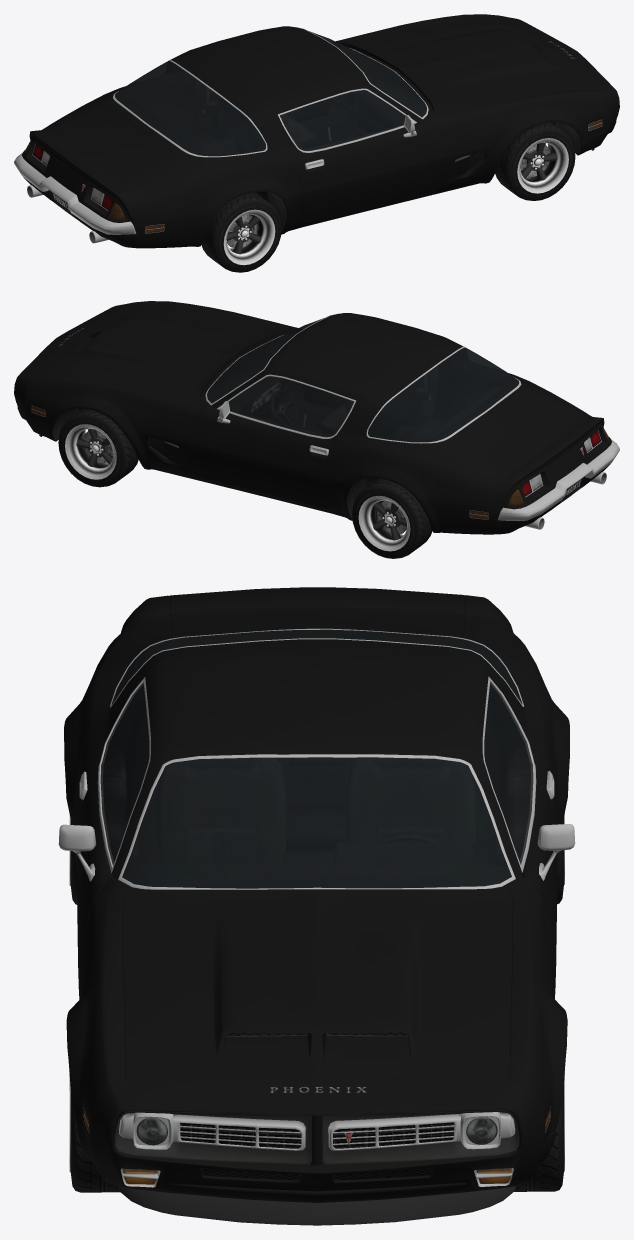
Rendered from phoenix.glb.
3 renders of one model, top to bottom at view 1: azimuth 30°, elevation 25°; view 2: azimuth 150°, elevation 25°; view 3: azimuth 270°, elevation 25°, orthographic. The views are drawn at different scales.
Parts seen in each view (by area): view 1: Phoenix445_Body_Phoenix445_Bodymat_0, Phoenix445_Interior_UCB_Interiors_2_0, Phoenix445_Hood_Phoenix445_Bodymat_0, Phoenix445_Glass_rear_UCB_Lights_and_Glass_Transperent_0, Phoenix445_Trunkdoor_Phoenix445_Bodymat_0, Phoenix445_Glass_Passenger_UCB_Lights_and_Glass_Transperent_, Phoenix445_WheelStock_RR_RB1c_Tire_1k_0, Phoenix445_WheelStock_FR_RB1c_Tire_1k_0, Phoenix445_Bottom_UCB_BOTTOM_0, Phoenix445_Bumper_rear_UCB_BOTTOM_0, Phoenix445_Windshield_UCB_Lights_and_Glass_Transperent_0, Phoenix445_Taillights_Glass_UCB_Lights_and_Glass_Transperent; view 2: Phoenix445_Body_Phoenix445_Bodymat_0, Phoenix445_Hood_Phoenix445_Bodymat_0, Phoenix445_Interior_UCB_Interiors_2_0, Phoenix445_Glass_rear_UCB_Lights_and_Glass_Transperent_0, Phoenix445_Trunkdoor_Phoenix445_Bodymat_0, Phoenix445_Glass_Driver_UCB_Lights_and_Glass_Transperent_0, Phoenix445_WheelStock_RL_RB1c_Tire_1k_0, Phoenix445_WheelStock_FL_RB1c_Tire_1k_0, Phoenix445_Bottom_UCB_BOTTOM_0, Phoenix445_Bumper_rear_UCB_BOTTOM_0, Phoenix445_Windshield_UCB_Lights_and_Glass_Transperent_0, Phoenix445_Taillights_Glass_UCB_Lights_and_Glass_Transperent (+1 smaller); view 3: Phoenix445_Body_Phoenix445_Bodymat_0, Phoenix445_Hood_Phoenix445_Bodymat_0, Phoenix445_Interior_UCB_Interiors_2_0, Phoenix445_Windshield_UCB_Lights_and_Glass_Transperent_0, Phoenix445_Bottom_UCB_BOTTOM_0, Phoenix445_Trunkdoor_Phoenix445_Bodymat_0, Phoenix445_Glass_Driver_UCB_Lights_and_Glass_Transperent_0, Phoenix445_Glass_Passenger_UCB_Lights_and_Glass_Transperent_, Phoenix445_Glass_rear_UCB_Lights_and_Glass_Transperent_0, Phoenix445_WheelStock_FR_RB1c_Tire_1k_0, Phoenix445_WheelStock_FL_RB1c_Tire_1k_0, Phoenix445_Headlights_glass_UCB_Lights_and_Glass_Transperent (+2 smaller).
Boxes of the visible parts, <box> form: Phoenix445_Body_Phoenix445_Bodymat_0: <box>22,14,619,248</box>; Phoenix445_Interior_UCB_Interiors_2_0: <box>115,47,426,155</box>; Phoenix445_Hood_Phoenix445_Bodymat_0: <box>339,18,598,112</box>; Phoenix445_Glass_rear_UCB_Lights_and_Glass_Transperent_0: <box>115,61,265,156</box>; Phoenix445_Trunkdoor_Phoenix445_Bodymat_0: <box>35,104,178,194</box>; Phoenix445_Glass_Passenger_UCB_Lights_and_Glass_Transperent_: <box>280,90,405,151</box>; Phoenix445_WheelStock_RR_RB1c_Tire_1k_0: <box>201,192,281,272</box>; Phoenix445_WheelStock_FR_RB1c_Tire_1k_0: <box>495,122,575,200</box>; Phoenix445_Bottom_UCB_BOTTOM_0: <box>27,27,602,243</box>; Phoenix445_Bumper_rear_UCB_BOTTOM_0: <box>14,152,136,234</box>; Phoenix445_Windshield_UCB_Lights_and_Glass_Transperent_0: <box>309,31,426,117</box>; Phoenix445_Taillights_Glass_UCB_Lights_and_Glass_Transperent: <box>24,141,164,233</box>; Phoenix445_Body_Phoenix445_Bodymat_0: <box>14,301,611,534</box>; Phoenix445_Hood_Phoenix445_Bodymat_0: <box>35,305,294,398</box>; Phoenix445_Interior_UCB_Interiors_2_0: <box>207,334,518,441</box>; Phoenix445_Glass_rear_UCB_Lights_and_Glass_Transperent_0: <box>368,347,518,442</box>; Phoenix445_Trunkdoor_Phoenix445_Bodymat_0: <box>456,391,599,480</box>; Phoenix445_Glass_Driver_UCB_Lights_and_Glass_Transperent_0: <box>228,376,354,437</box>; Phoenix445_WheelStock_RL_RB1c_Tire_1k_0: <box>352,478,432,558</box>; Phoenix445_WheelStock_FL_RB1c_Tire_1k_0: <box>58,408,138,487</box>; Phoenix445_Bottom_UCB_BOTTOM_0: <box>31,313,606,529</box>; Phoenix445_Bumper_rear_UCB_BOTTOM_0: <box>498,439,619,521</box>; Phoenix445_Windshield_UCB_Lights_and_Glass_Transperent_0: <box>207,318,323,403</box>; Phoenix445_Taillights_Glass_UCB_Lights_and_Glass_Transperent: <box>469,427,609,519</box>; Phoenix445_Body_Phoenix445_Bodymat_0: <box>64,595,569,1202</box>; Phoenix445_Hood_Phoenix445_Bodymat_0: <box>122,887,511,1081</box>; Phoenix445_Interior_UCB_Interiors_2_0: <box>103,630,530,887</box>; Phoenix445_Windshield_UCB_Lights_and_Glass_Transperent_0: <box>122,757,511,888</box>; Phoenix445_Bottom_UCB_BOTTOM_0: <box>58,628,575,1225</box>; Phoenix445_Trunkdoor_Phoenix445_Bodymat_0: <box>169,587,464,636</box>; Phoenix445_Glass_Driver_UCB_Lights_and_Glass_Transperent_0: <box>484,681,533,864</box>; Phoenix445_Glass_Passenger_UCB_Lights_and_Glass_Transperent_: <box>100,682,149,865</box>; Phoenix445_Glass_rear_UCB_Lights_and_Glass_Transperent_0: <box>111,629,522,704</box>; Phoenix445_WheelStock_FR_RB1c_Tire_1k_0: <box>69,1072,119,1192</box>; Phoenix445_WheelStock_FL_RB1c_Tire_1k_0: <box>514,1071,564,1191</box>; Phoenix445_Headlights_glass_UCB_Lights_and_Glass_Transperent: <box>136,1117,497,1145</box>.
Size of the model in its own units: 4.89 by 1.33 by 2.09.
Materials: 8 (7 with a texture image).
